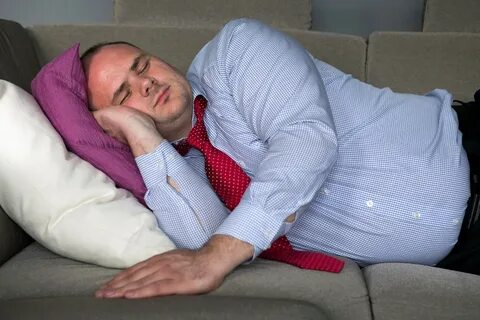sleep: (79, 25, 480, 288)
